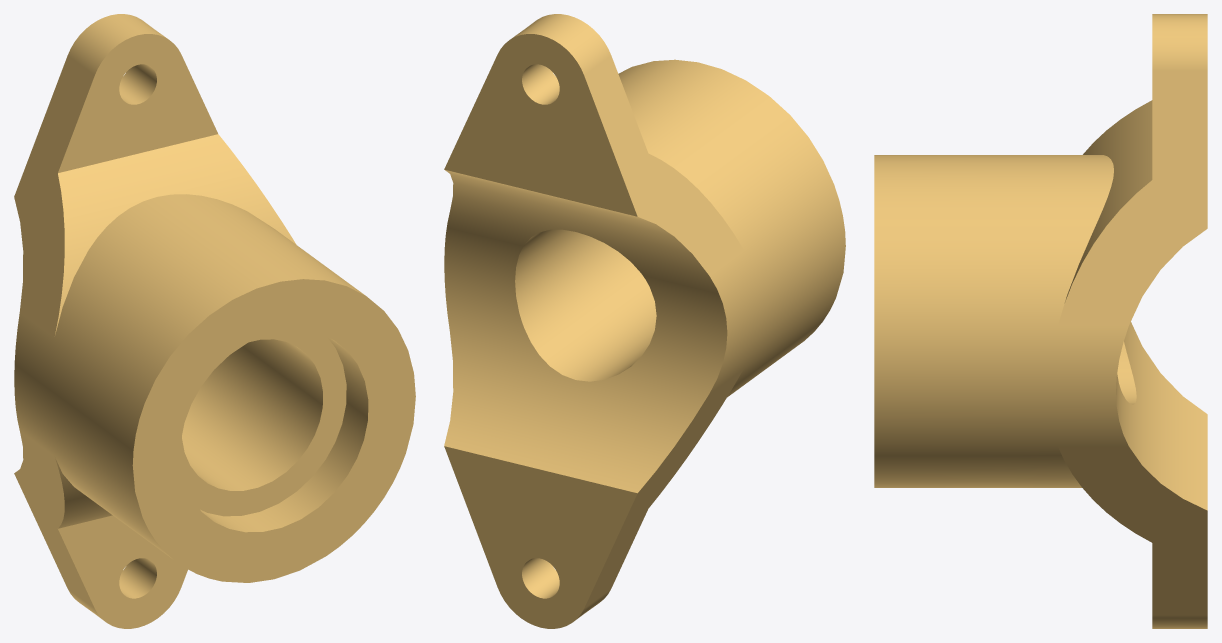
Rendered from Part Modeling 1.fbx.
3 views of the same model, side by side, from view 1: azimuth 30°, elevation 25°; view 2: azimuth 150°, elevation 25°; view 3: azimuth 270°, elevation 25° (orthographic). The views are drawn at different scales.
Visible parts, largest first — view 1: Body1; view 2: Body1; view 3: Body1.
Boxes of the visible parts, x1,y1,x2,y2 form: Body1: (14,14,415,628); Body1: (444,14,845,628); Body1: (874,14,1207,628).
Size of the model in its own units: 150 by 300 by 150.
